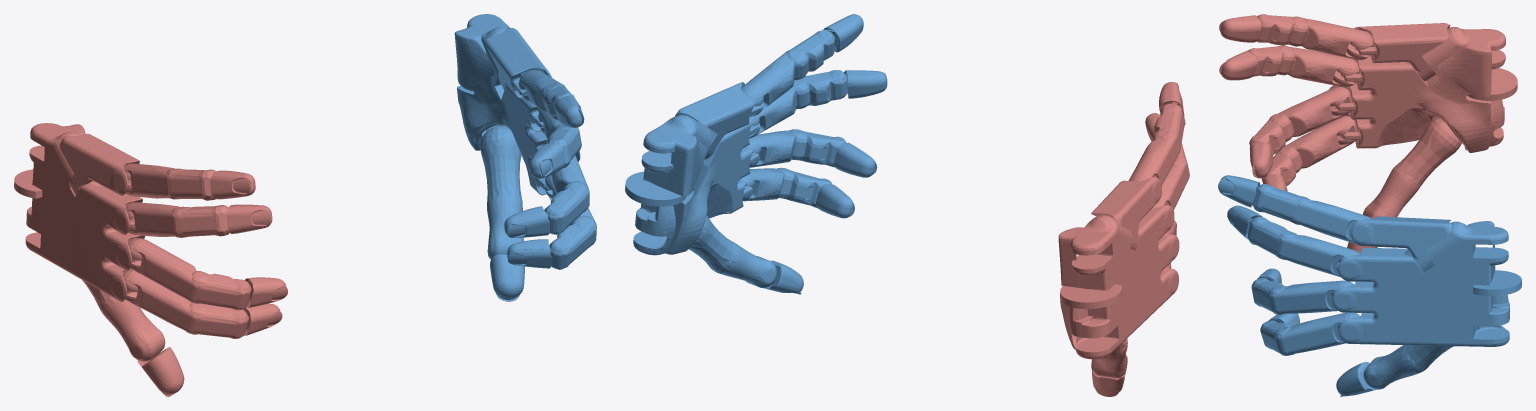
Rendered from curl_cream_pc.glb.
3 views of the same model, side by side, from view 1: azimuth 30°, elevation 25°; view 2: azimuth 150°, elevation 25°; view 3: azimuth 270°, elevation 25° (orthographic). The views are drawn at different scales.
Visible parts, largest first — view 1: left_shadow_hand, right_shadow_hand; view 2: right_shadow_hand, left_shadow_hand; view 3: right_shadow_hand, left_shadow_hand.
Boxes of the visible parts, x1,y1,x2,y2 form: left_shadow_hand: (14, 123, 287, 396); right_shadow_hand: (454, 14, 596, 301); right_shadow_hand: (625, 14, 887, 294); left_shadow_hand: (1058, 82, 1189, 396); right_shadow_hand: (1218, 175, 1521, 396); left_shadow_hand: (1219, 14, 1517, 252).
Size of the model in its own units: 0.3527 by 0.1823 by 0.202.
